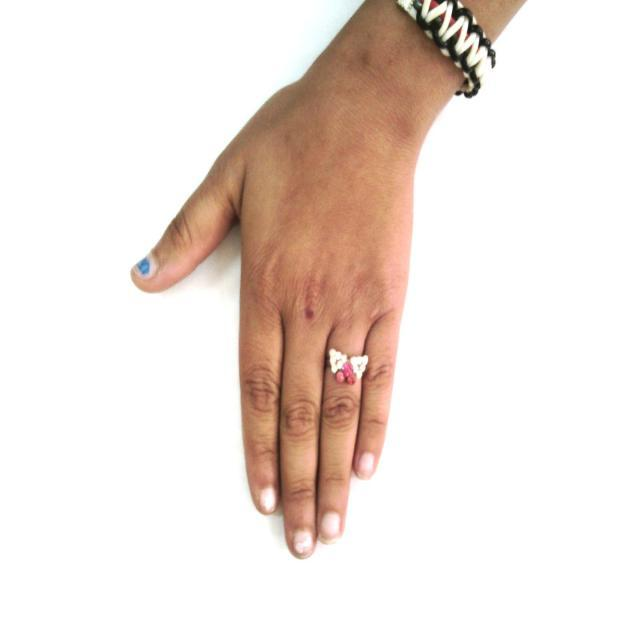Fingernail: (319, 511, 340, 543), (292, 527, 314, 557), (133, 252, 157, 279), (358, 451, 375, 480), (260, 489, 275, 512)
